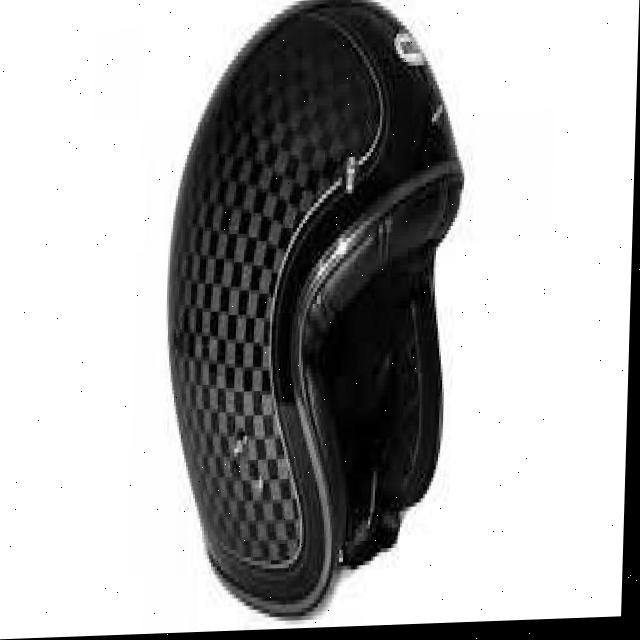Helmet: (154, 0, 472, 634)
